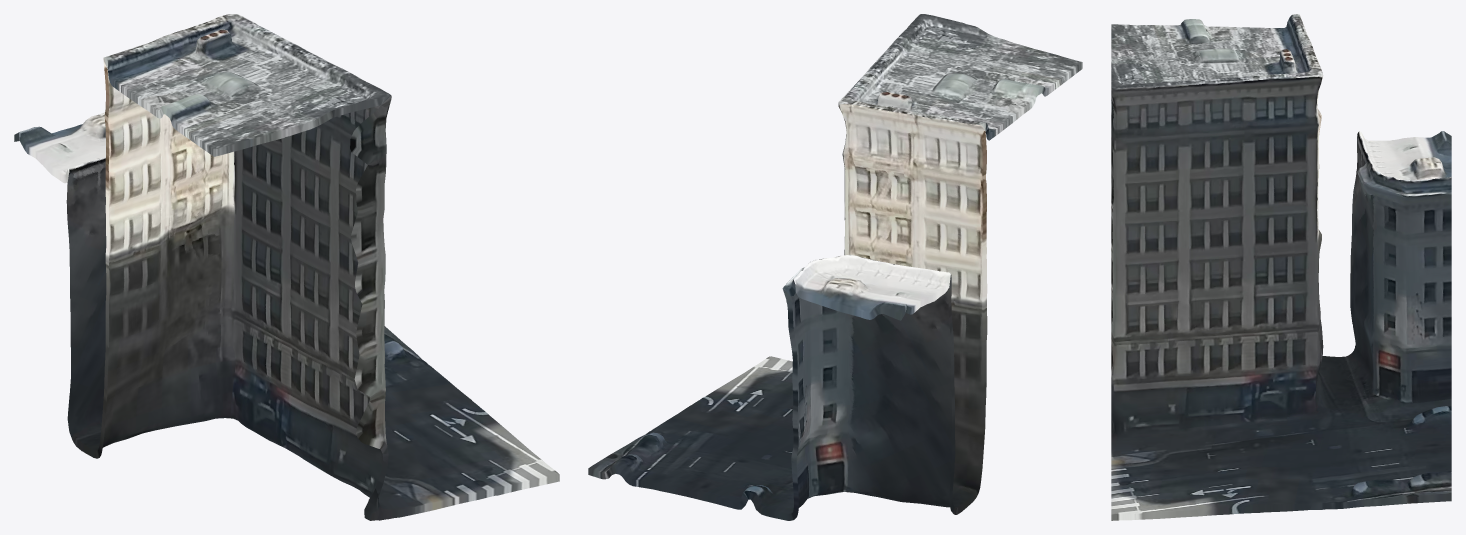
The model's file is z20-167759-405238-h0-yup-uvflip-v3-world.glb.
3 renders of one model, left to right at view 1: azimuth 30°, elevation 25°; view 2: azimuth 150°, elevation 25°; view 3: azimuth 270°, elevation 25°, orthographic. The views are drawn at different scales.
Size of the model in its own units: 30.16 by 35.96 by 30.32.
Materials: 1 (1 with a texture image).
